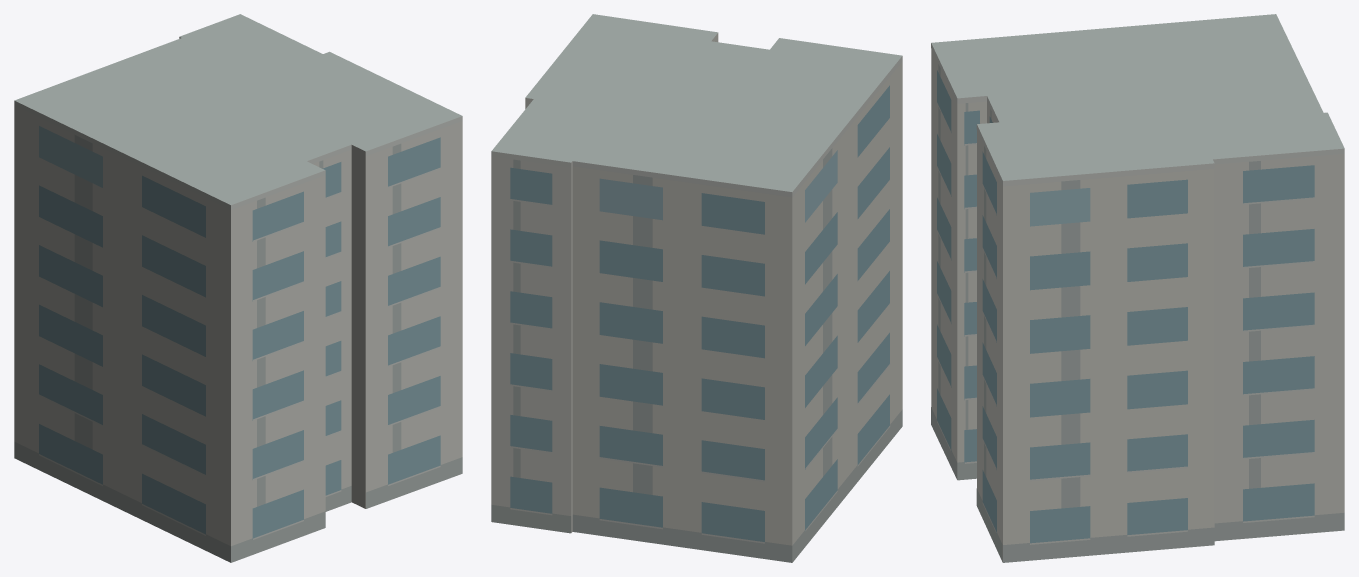
File: survey-upis-32806891.glb
The picture shows the model from 3 angles, left to right: view 1: azimuth 30°, elevation 25°; view 2: azimuth 150°, elevation 25°; view 3: azimuth 270°, elevation 25°; orthographic projection. The views are drawn at different scales.
Visible parts, largest first — view 1: survey-upis-32806891.tmp; view 2: survey-upis-32806891.tmp; view 3: survey-upis-32806891.tmp.
Boxes of the visible parts, x1,y1,x2,y2 form: survey-upis-32806891.tmp: [14, 14, 462, 562]; survey-upis-32806891.tmp: [491, 14, 902, 562]; survey-upis-32806891.tmp: [931, 14, 1344, 562].
Size of the model in its own units: 16.33 by 17.4 by 17.09.
